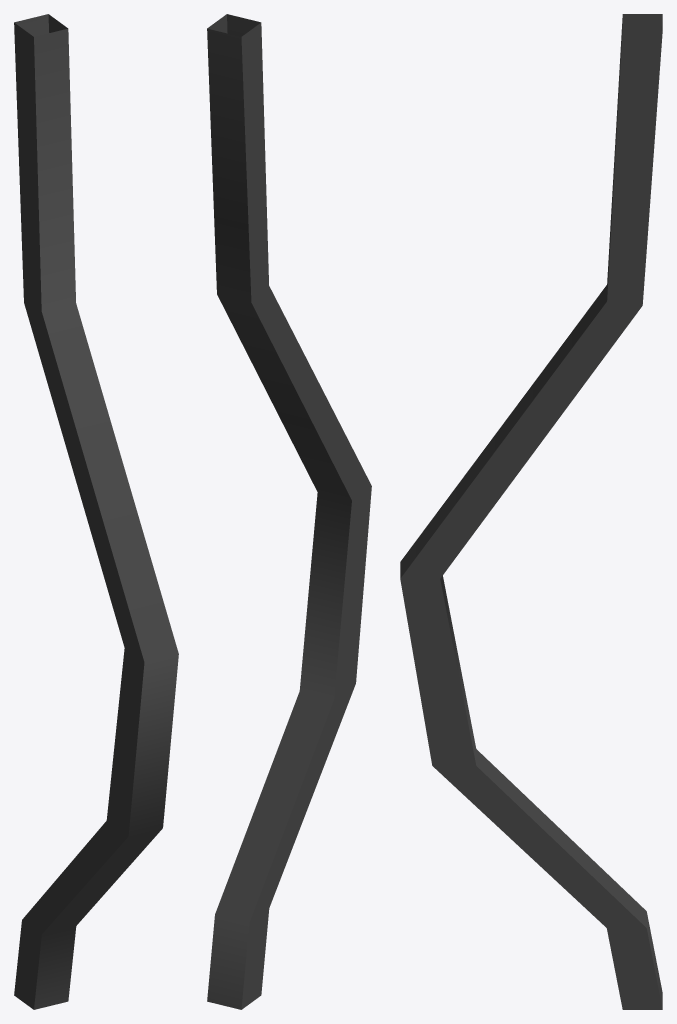
File: RailingWLOD.fbx
3 views of the same model, side by side, from view 1: azimuth 30°, elevation 25°; view 2: azimuth 150°, elevation 25°; view 3: azimuth 270°, elevation 25° (orthographic).
Parts seen in each view (by area): view 1: Railing Window_LOD1; view 2: Railing Window_LOD1; view 3: Railing Window_LOD1.
Boxes of the visible parts, bbox=[...] form: Railing Window_LOD1: bbox=[14, 14, 178, 1009]; Railing Window_LOD1: bbox=[207, 14, 371, 1009]; Railing Window_LOD1: bbox=[400, 14, 662, 1009].
Bounding box in the file's own units: 5 × 135 × 32.8.
